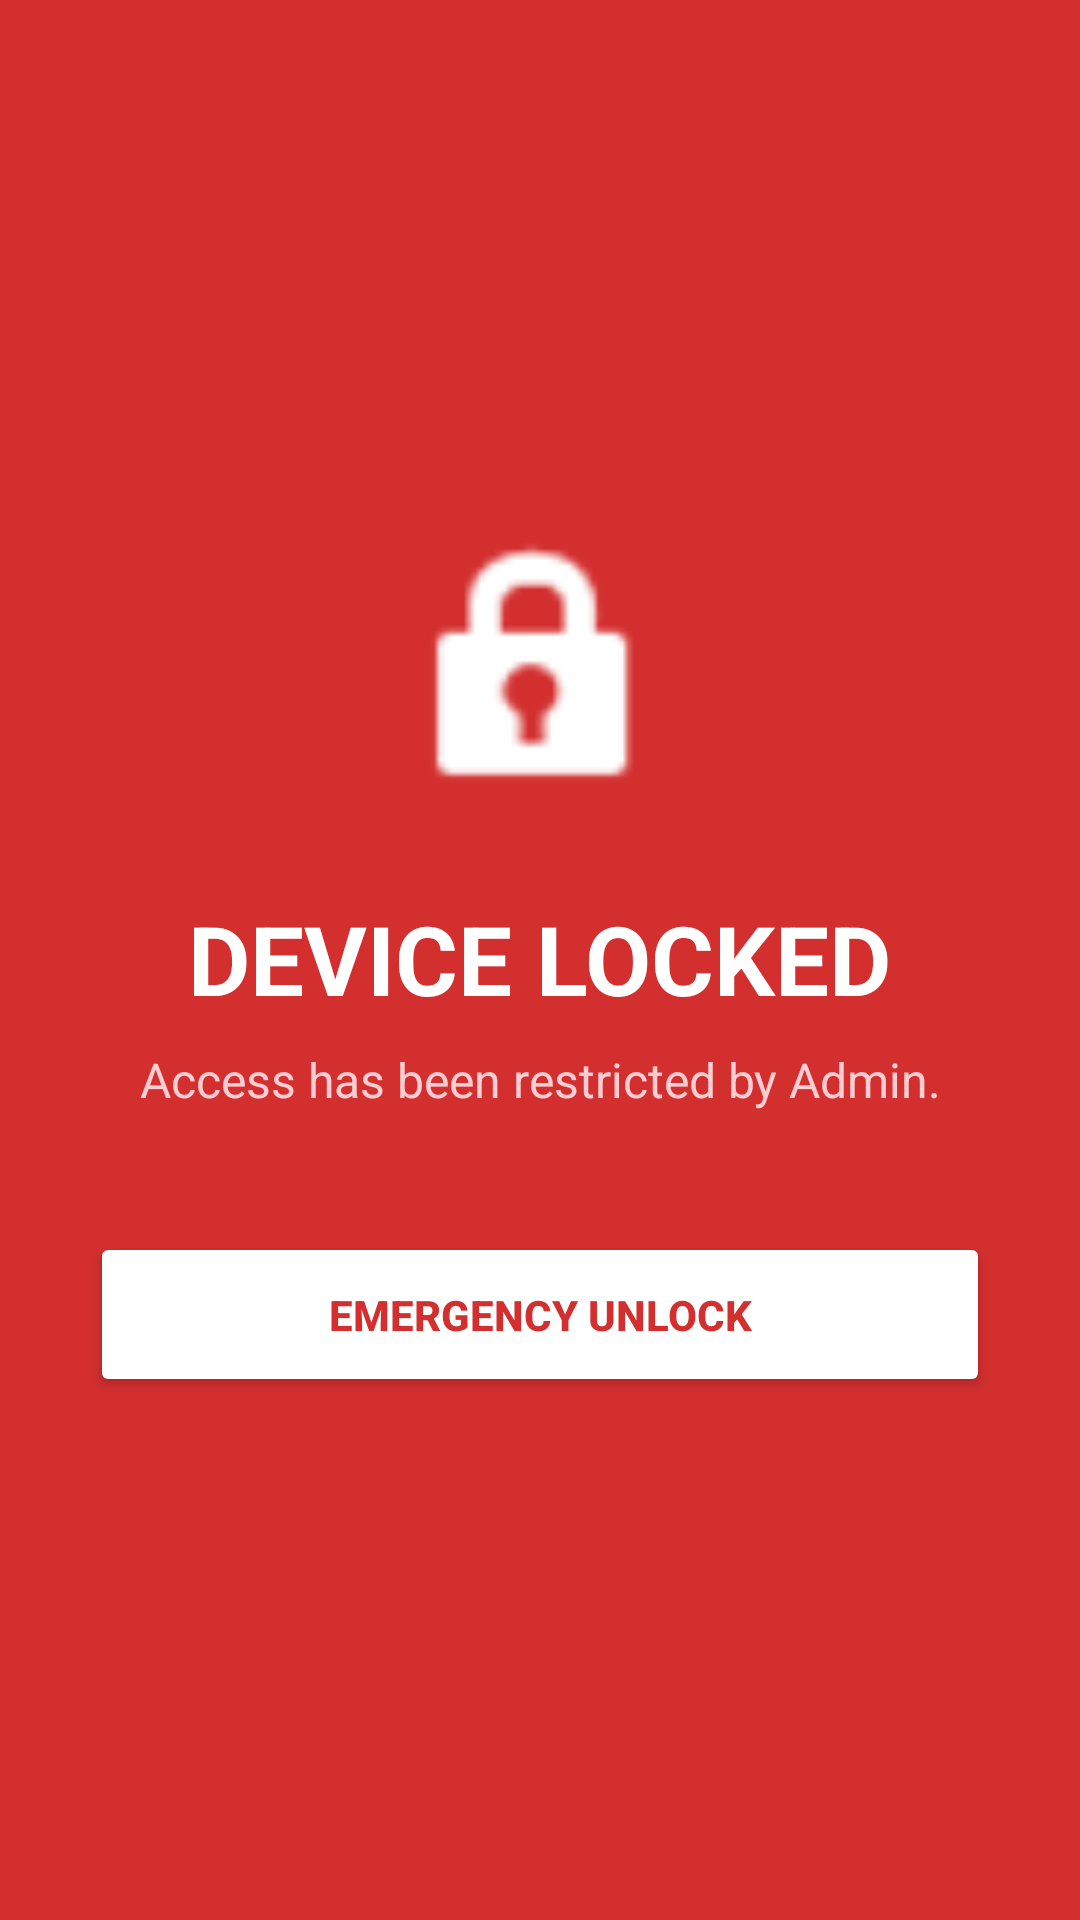

Icons on this 1080x1920 Android screen, each with its box as bbox(x1, y1, x2, y2):
lock idle: bbox(435, 547, 632, 777)
